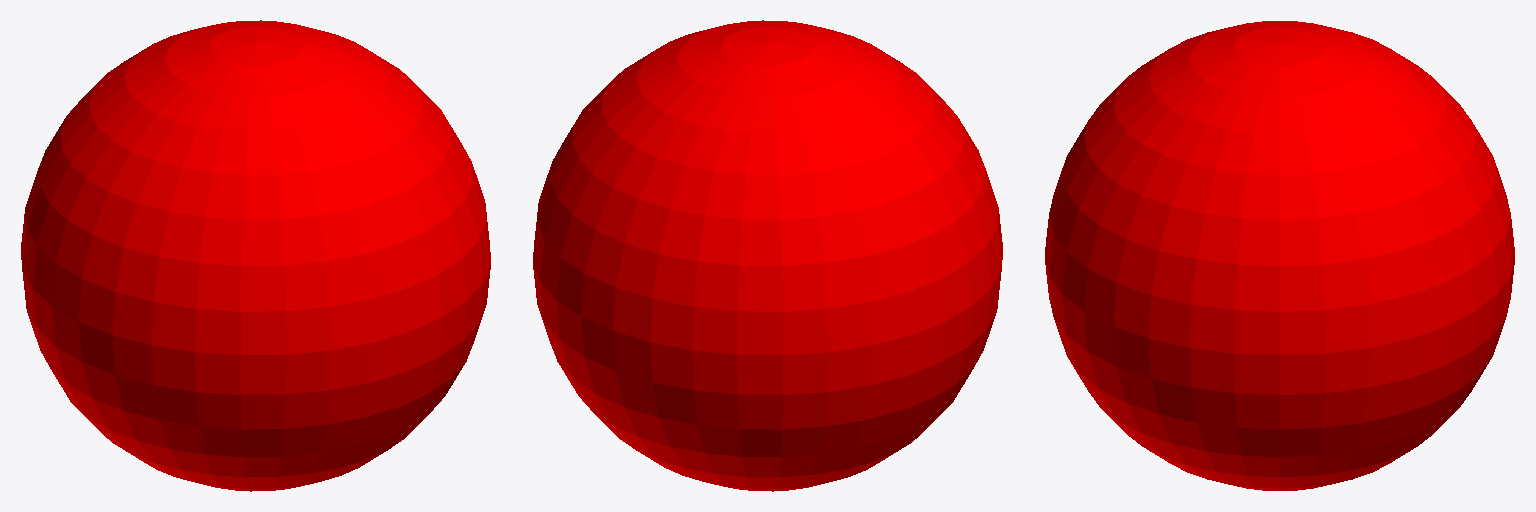
URDF robot description (ball):
<?xml version="0.0" ?>
<robot name="ball">
  <link name="ball">
  <contact>
      <lateral_friction value="1"/>
  </contact>
    <inertial>
      <origin rpy="0 0 0" xyz="0 0 0"/>
       <mass value="1.0"/>
       <inertia ixx="0.019" ixy="0" ixz="0" iyy="0.019" iyz="0" izz="0.019"/>
    </inertial>
    <visual>
      <origin rpy="0 0 0" xyz="0 0 0"/>
      <geometry>
	<mesh filename="ball.obj" scale="1 1 1"/>
      </geometry>
       <material name="red">
        <color rgba="1 0 0 1"/>
      </material>
    </visual>
    <collision>
      <origin rpy="0 0 0" xyz="0 0 0"/>
      <geometry>
	<mesh filename="ball.obj" scale="1 1 1"/>
      </geometry>
    </collision>
  </link>
</robot>

--- Render facts (derived) ---
3 views of the same robot in one strip: view 1: azimuth 30°, elevation 25°; view 2: azimuth 150°, elevation 25°; view 3: azimuth 270°, elevation 25° (orthographic).
Model ball with 1 links and 0 joints (none), rooted at ball, posed every joint at zero.
Visible links, largest first — view 1: ball; view 2: ball; view 3: ball.
Link boxes in pixels (x1,y1,x2,y2): ball: (21,20,490,491); ball: (533,20,1002,491); ball: (1045,21,1514,490).
Size in the robot's own frame: 0.4408 by 0.4408 by 0.4408 metres.
Meshes: 1 distinct files referenced, 1 mesh visuals loaded (1 OBJ).